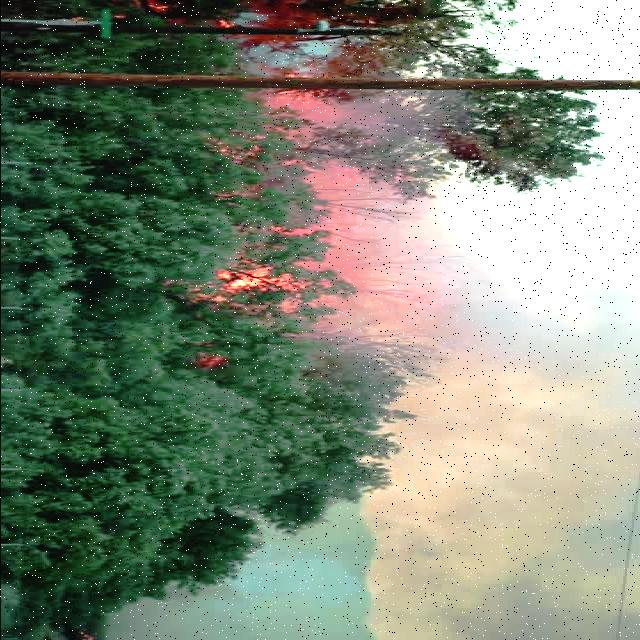api: (209, 272, 291, 296), (270, 228, 315, 238)
asap: (381, 241, 640, 640), (252, 513, 374, 640)
